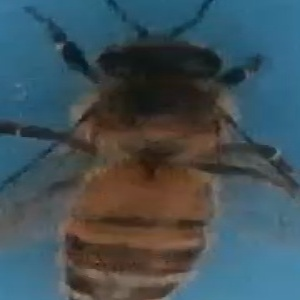bee: (10, 3, 293, 300)
